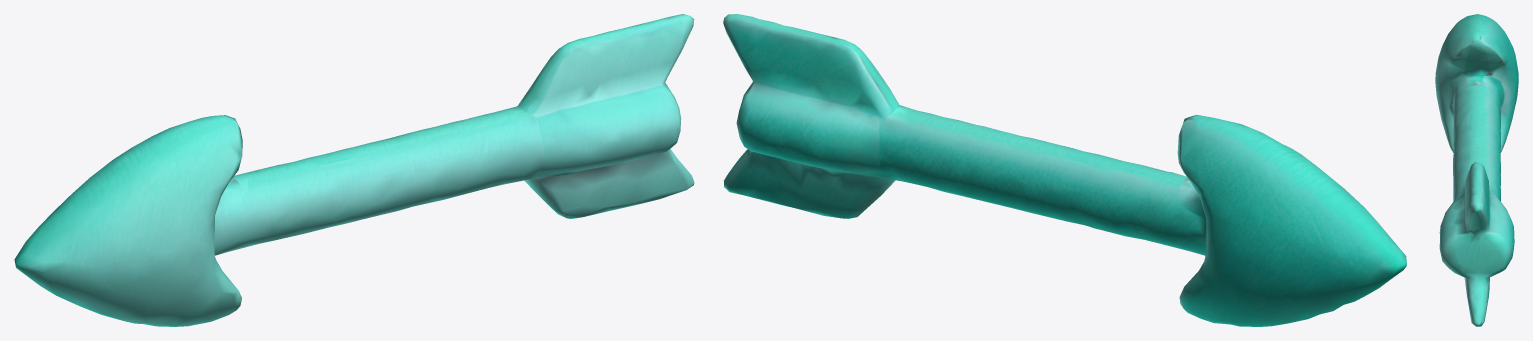
The model's file is SpiritArrow.fbx.
The picture shows the model from 3 angles, left to right: view 1: azimuth 30°, elevation 25°; view 2: azimuth 150°, elevation 25°; view 3: azimuth 270°, elevation 25°; orthographic projection. The views are drawn at different scales.
Parts seen in each view (by area): view 1: texture_mapping; view 2: texture_mapping; view 3: texture_mapping.
Part boxes in pixels (x1,y1,x2,y2): texture_mapping: [14, 14, 694, 326]; texture_mapping: [723, 14, 1406, 326]; texture_mapping: [1435, 14, 1518, 326].
Size of the model in its own units: 1 by 0.1508 by 0.2819.
1 material, 1 textured.
